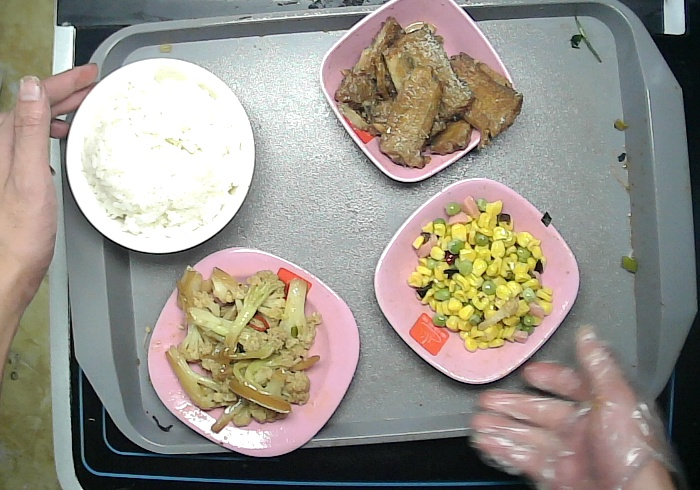SHKJ-Fan_Wan: (64, 58, 254, 253)
SHKJ-Fen_Se_Cai_Die: (374, 178, 580, 386)
SHKJ-Fen_Se_Si_Fang_Cai_Die: (148, 245, 360, 458)
SHKJ-Fen_Se_Xiao_Fang_Die: (322, 4, 519, 183)
